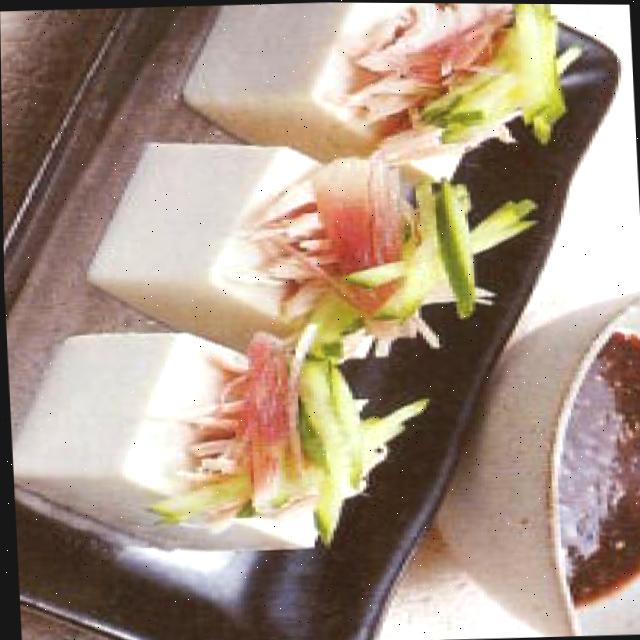豆腐料理: (0, 0, 584, 558)
